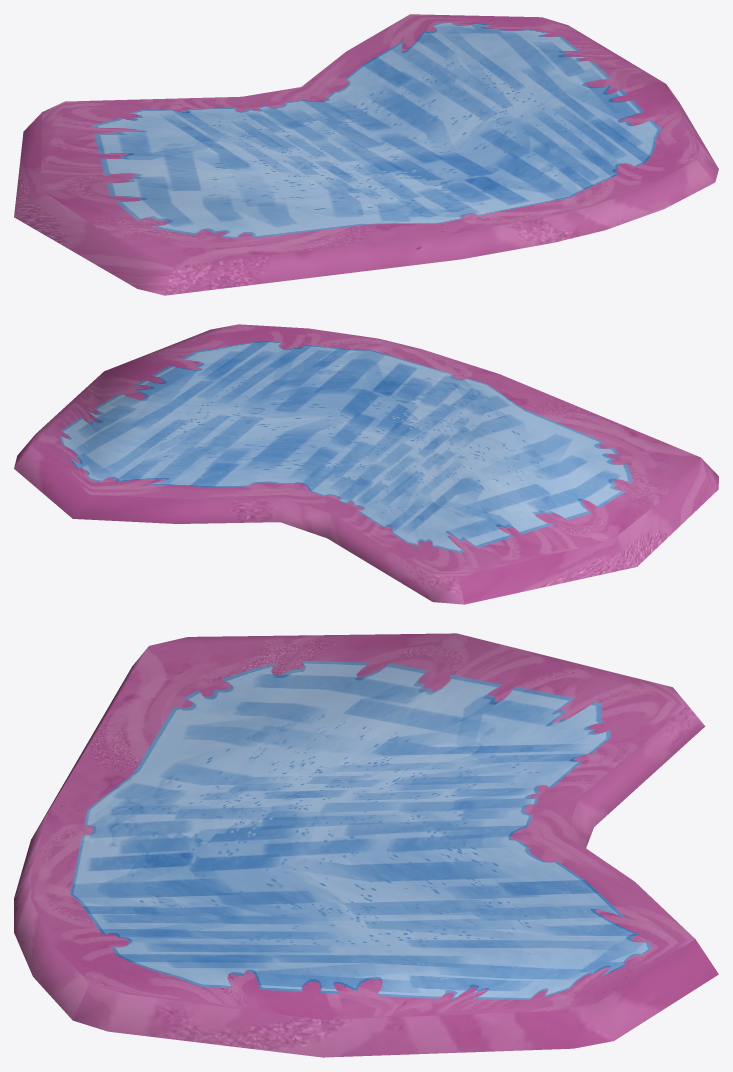
Rendered from pm-path-01.glb.
3 views of the same model, one above another, from view 1: azimuth 30°, elevation 25°; view 2: azimuth 150°, elevation 25°; view 3: azimuth 270°, elevation 25° (orthographic). The views are drawn at different scales.
Visible parts, largest first — view 1: Path_01_Art; view 2: Path_01_Art; view 3: Path_01_Art.
Boxes of the visible parts, box(x1,y1,x2,y2) form: Path_01_Art: box(14, 14, 718, 295); Path_01_Art: box(14, 324, 718, 604); Path_01_Art: box(14, 633, 718, 1057).
Bounding box in the file's own units: 6.33 × 0.2078 × 4.57.
1 material, 1 textured.
